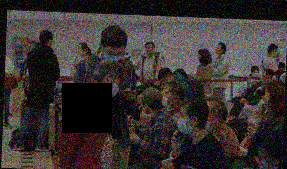mask_weared_incorrect: (75, 46, 85, 55)
with_mask: (176, 110, 193, 136), (104, 77, 121, 97), (102, 48, 125, 61), (160, 88, 173, 111), (197, 54, 205, 63), (251, 69, 260, 77)
without_mask: (264, 89, 272, 106), (161, 73, 173, 84), (262, 72, 273, 84), (272, 72, 281, 82), (145, 44, 153, 54), (214, 44, 221, 54), (26, 44, 33, 51)
